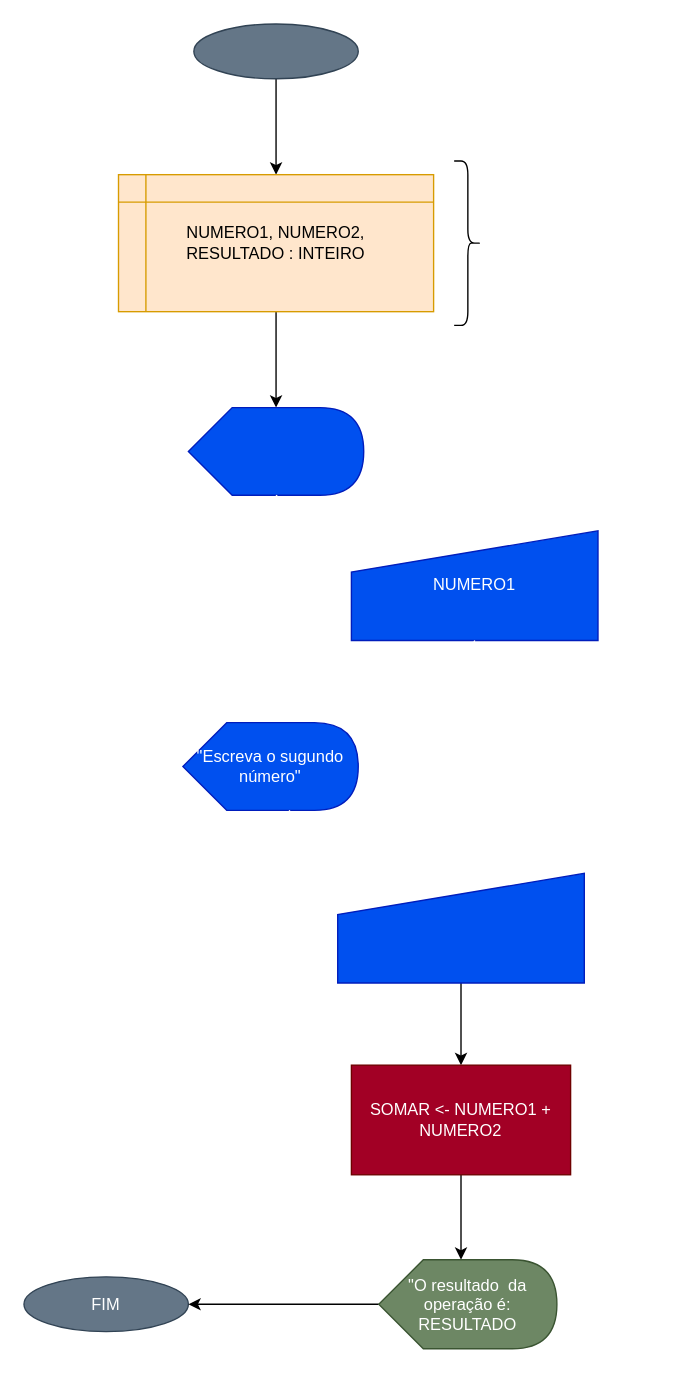
The diagram is 677 pixels wide and 1373 high, and some of its shapes have lost their labels. The shapes that lost their labels are listed below. From the top down, each one's centre as x and y in pixels, then its label:
point 275,51: INICIO
point 275,450: "Escreva o primeiro número"
point 460,927: NUMERO2
